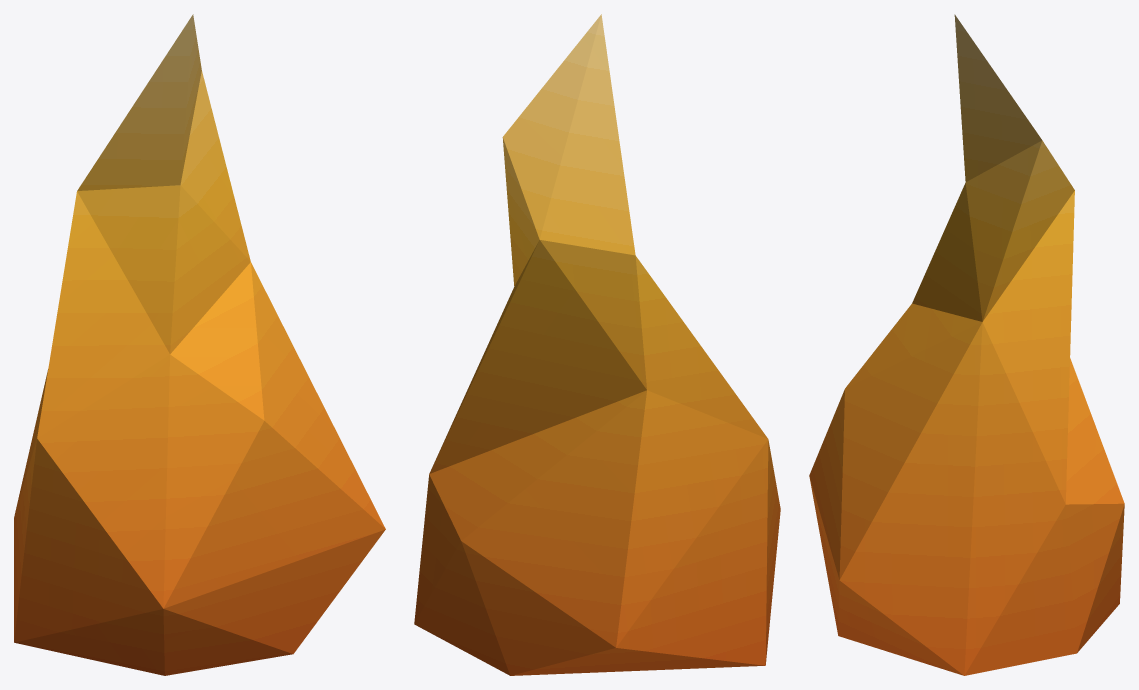
The model's file is Flame.fbx.
3 views of the same model, side by side, from view 1: azimuth 30°, elevation 25°; view 2: azimuth 150°, elevation 25°; view 3: azimuth 270°, elevation 25° (orthographic). The views are drawn at different scales.
Visible parts, largest first — view 1: Flame; view 2: Flame; view 3: Flame.
Part boxes in pixels (x1,y1,x2,y2): Flame: [14, 14, 385, 675]; Flame: [414, 14, 780, 675]; Flame: [809, 14, 1124, 675].
Size of the model in its own units: 0.9939 by 1.81 by 0.8061.
